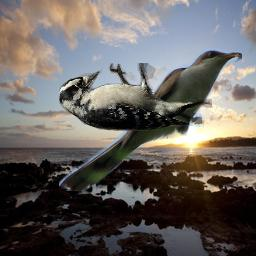Cuckoo: (59, 47, 242, 191)
Woodpecker: (59, 63, 212, 131)
